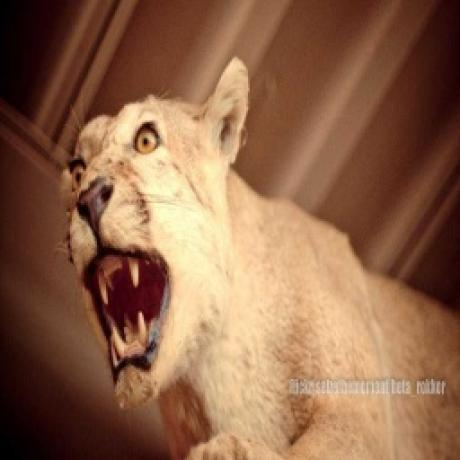Lion: (57, 57, 460, 460)
